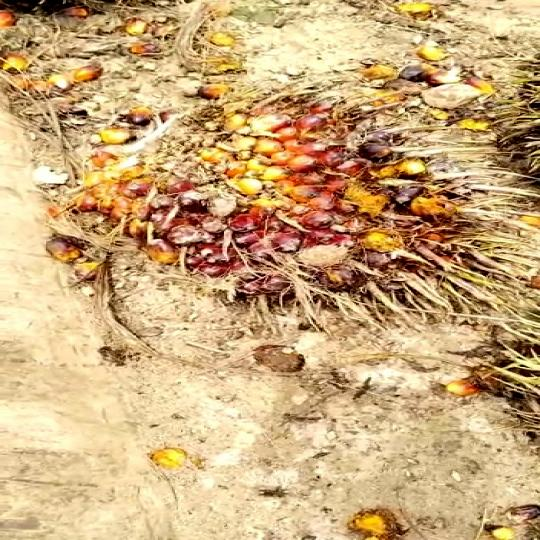masak: (84, 83, 498, 337)
